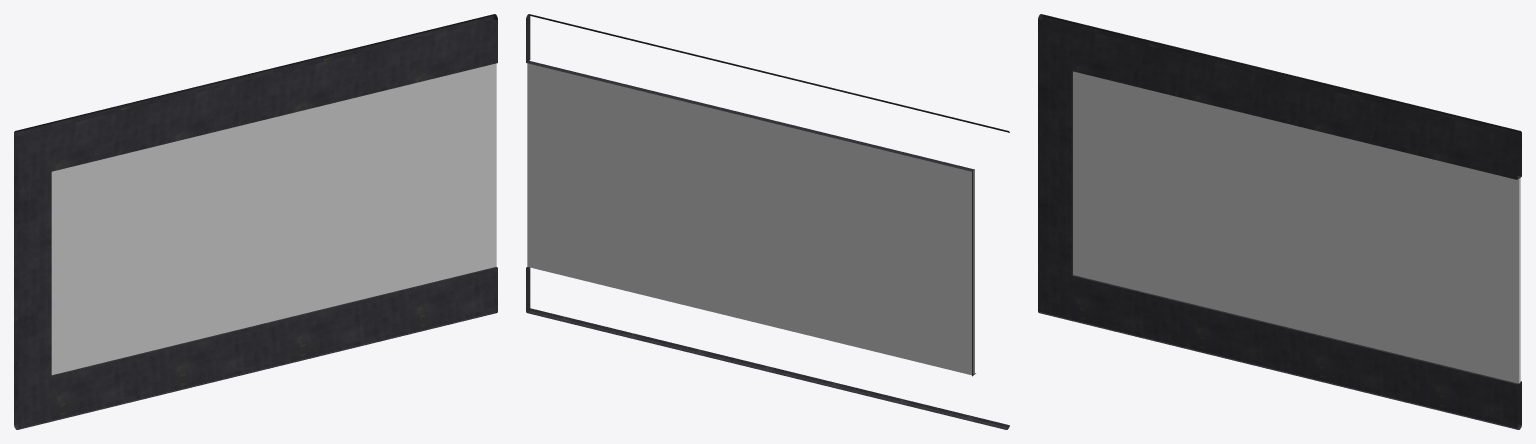
File: Porton-transformed.glb
3 views of the same model, side by side, from view 1: azimuth 30°, elevation 25°; view 2: azimuth 150°, elevation 25°; view 3: azimuth 330°, elevation 25° (orthographic).
Visible parts, largest first — view 1: Plane.001; view 2: Plane.001; view 3: Plane.001.
Part boxes in pixels (x1=…): Plane.001: x1=14, y1=14, x2=497, y2=429; Plane.001: x1=526, y1=14, x2=1009, y2=429; Plane.001: x1=1038, y1=14, x2=1521, y2=429.
Bounding box in the file's own units: 12.9 × 7.67 × 0.2062.
2 materials, 1 textured.
